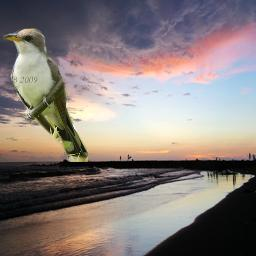Cuckoo: (3, 27, 88, 162)
